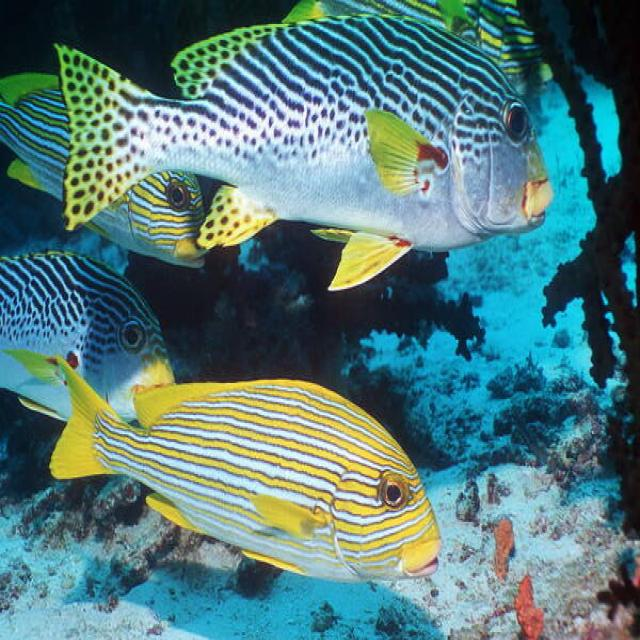RibbonedSweetlips: (41, 348, 442, 586), (0, 71, 206, 272)
